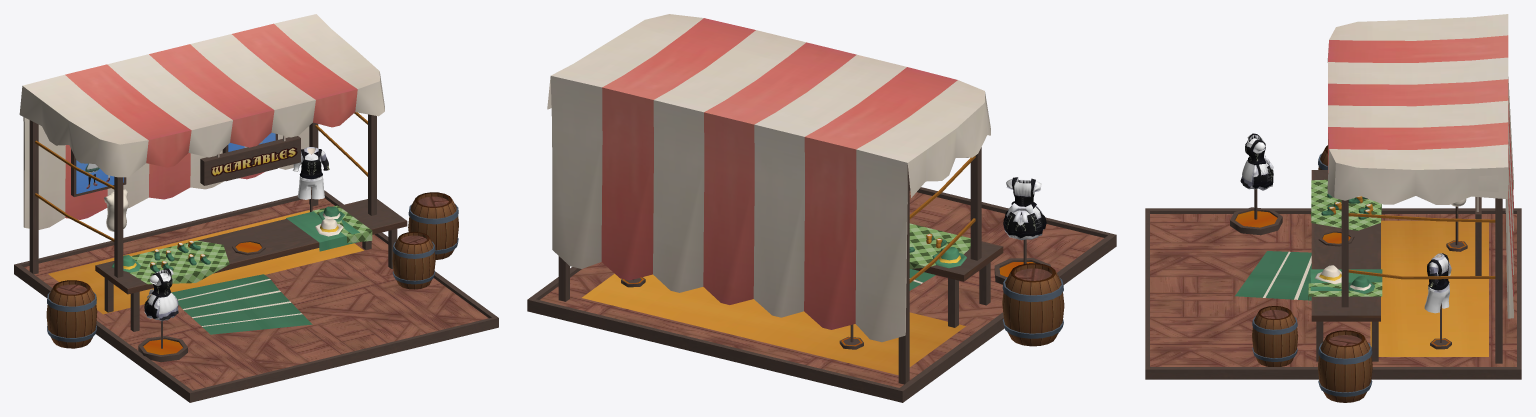
The model's file is pm-booth-wearables.glb.
3 views of the same model, side by side, from view 1: azimuth 30°, elevation 25°; view 2: azimuth 150°, elevation 25°; view 3: azimuth 270°, elevation 25° (orthographic). The views are drawn at different scales.
Parts seen in each view (by area): view 1: Booth_Wearables; view 2: Booth_Wearables; view 3: Booth_Wearables.
Boxes of the visible parts, x1=… form: Booth_Wearables: x1=14, y1=14, x2=498, y2=402; Booth_Wearables: x1=527, y1=14, x2=1116, y2=402; Booth_Wearables: x1=1145, y1=14, x2=1521, y2=402.
Size of what is drawn, in the model's own units: 8.68 by 3.94 by 6.51.
Materials: 10 (9 with a texture image).
